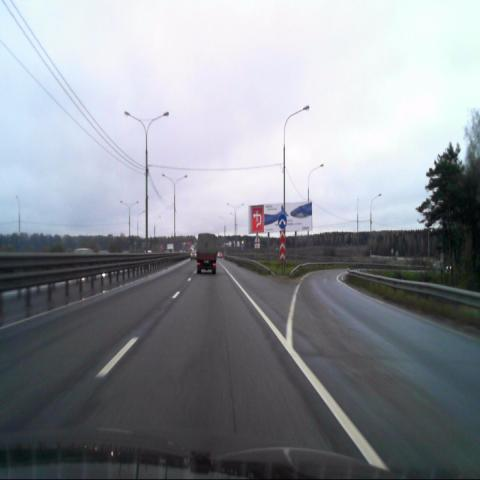4_2_3: (278, 212, 286, 228)
